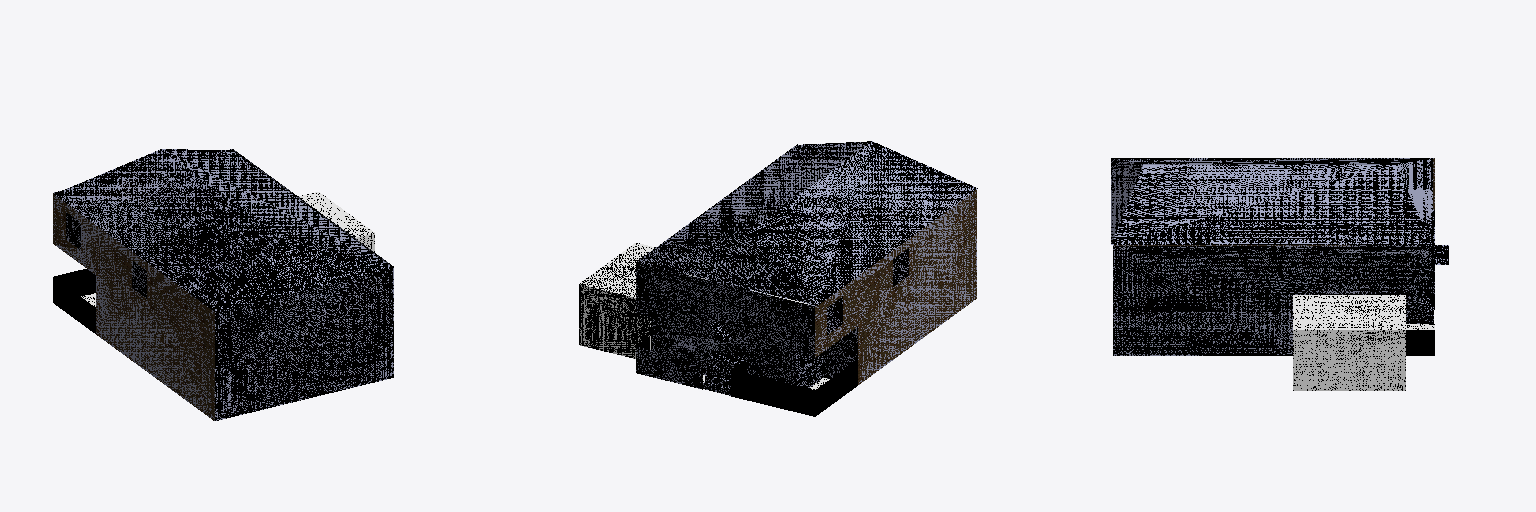
3 renders of one model, left to right at view 1: azimuth 30°, elevation 25°; view 2: azimuth 150°, elevation 25°; view 3: azimuth 270°, elevation 25°, orthographic.
Parts seen in each view (by area): view 1: SketchUp polySurface13 ID32, SketchUp polySurface3, SketchUp ID32 polySurface15, SketchUp ID32 polySurface20, SketchUp polySurface7, SketchUp polySurface2, SketchUp ID32 polySurface18, SketchUp polySurface4, SketchUp polySurface6, SketchUp polySurface51 ID102, SketchUp polySurface8, SketchUp ID72 polySurface45 (+1 smaller); view 2: SketchUp polySurface3, SketchUp ID32 polySurface15, SketchUp polySurface23 ID47, SketchUp polySurface7, SketchUp ID32 polySurface20, SketchUp polySurface2, polySurface1 SketchUp, SketchUp ID47 polySurface27, SketchUp ID47 polySurface28, SketchUp polySurface6, SketchUp ID47 polySurface31, SketchUp polySurface41 ID72 (+7 smaller); view 3: SketchUp ID32 polySurface14, SketchUp polySurface2, SketchUp polySurface6, SketchUp ID102 polySurface52, SketchUp ID32 polySurface19, SketchUp polySurface51 ID102, SketchUp polySurface3, SketchUp ID102 polySurface55, SketchUp polySurface5, SketchUp polySurface8, polySurface1 SketchUp, SketchUp ID102 polySurface54 (+3 smaller).
Part boxes in pixels (left/top/right/bottom): SketchUp polySurface13 ID32: left=215, top=267, right=393, bottom=420; SketchUp polySurface3: left=54, top=149, right=285, bottom=311; SketchUp ID32 polySurface15: left=53, top=193, right=214, bottom=420; SketchUp ID32 polySurface20: left=53, top=193, right=214, bottom=420; SketchUp polySurface7: left=56, top=149, right=286, bottom=310; SketchUp polySurface2: left=165, top=149, right=391, bottom=267; SketchUp ID32 polySurface18: left=215, top=268, right=393, bottom=420; SketchUp polySurface4: left=215, top=241, right=392, bottom=311; SketchUp polySurface6: left=163, top=149, right=389, bottom=266; SketchUp polySurface51 ID102: left=299, top=192, right=374, bottom=237; SketchUp polySurface8: left=216, top=241, right=388, bottom=310; SketchUp ID72 polySurface45: left=53, top=277, right=95, bottom=333; SketchUp polySurface3: left=747, top=142, right=977, bottom=305; SketchUp ID32 polySurface15: left=815, top=190, right=976, bottom=384; SketchUp polySurface23 ID47: left=636, top=263, right=814, bottom=357; SketchUp polySurface7: left=748, top=141, right=976, bottom=304; SketchUp ID32 polySurface20: left=815, top=192, right=976, bottom=384; SketchUp polySurface2: left=640, top=141, right=871, bottom=261; polySurface1 SketchUp: left=639, top=234, right=815, bottom=305; SketchUp ID47 polySurface27: left=651, top=318, right=795, bottom=385; SketchUp ID47 polySurface28: left=579, top=284, right=649, bottom=358; SketchUp polySurface6: left=641, top=142, right=867, bottom=261; SketchUp ID47 polySurface31: left=636, top=264, right=814, bottom=356; SketchUp polySurface41 ID72: left=731, top=370, right=814, bottom=416; SketchUp ID32 polySurface14: left=1113, top=246, right=1434, bottom=355; SketchUp polySurface2: left=1112, top=165, right=1431, bottom=244; SketchUp polySurface6: left=1111, top=165, right=1431, bottom=244; SketchUp ID102 polySurface52: left=1293, top=330, right=1405, bottom=390; SketchUp ID32 polySurface19: left=1113, top=246, right=1434, bottom=355; SketchUp polySurface51 ID102: left=1293, top=295, right=1405, bottom=329; SketchUp polySurface3: left=1114, top=158, right=1429, bottom=164; SketchUp ID102 polySurface55: left=1293, top=330, right=1405, bottom=390; SketchUp polySurface5: left=1397, top=158, right=1432, bottom=239; SketchUp polySurface8: left=1111, top=159, right=1142, bottom=242; polySurface1 SketchUp: left=1396, top=158, right=1432, bottom=244; SketchUp ID102 polySurface54: left=1293, top=295, right=1405, bottom=329.
Bounding box in the file's own units: 6.62 × 3.7 × 7.68.
Materials: 7 (1 with a texture image).